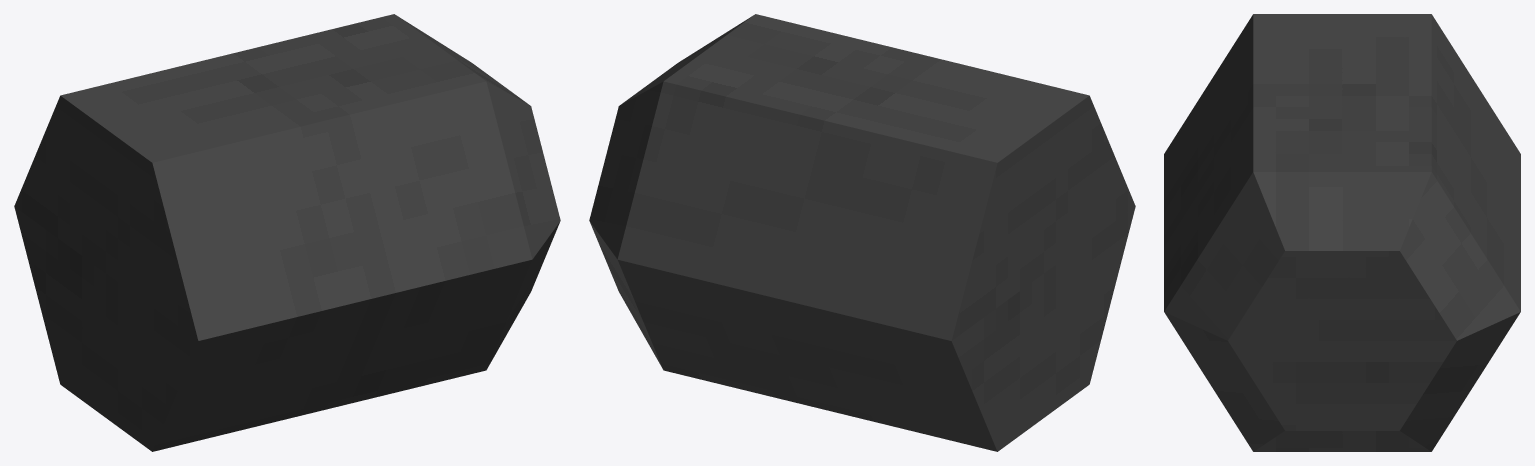
The model's file is antenna_top.obj.
3 renders of one model, left to right at view 1: azimuth 30°, elevation 25°; view 2: azimuth 150°, elevation 25°; view 3: azimuth 270°, elevation 25°, orthographic. The views are drawn at different scales.
Visible parts, largest first — view 1: 円柱; view 2: 円柱; view 3: 円柱.
Boxes of the visible parts, x1=… form: 円柱: x1=14, y1=14, x2=560, y2=451; 円柱: x1=589, y1=14, x2=1135, y2=451; 円柱: x1=1164, y1=14, x2=1520, y2=451.
Size of the model in its own units: 0.0356 by 0.0249 by 0.0287.
